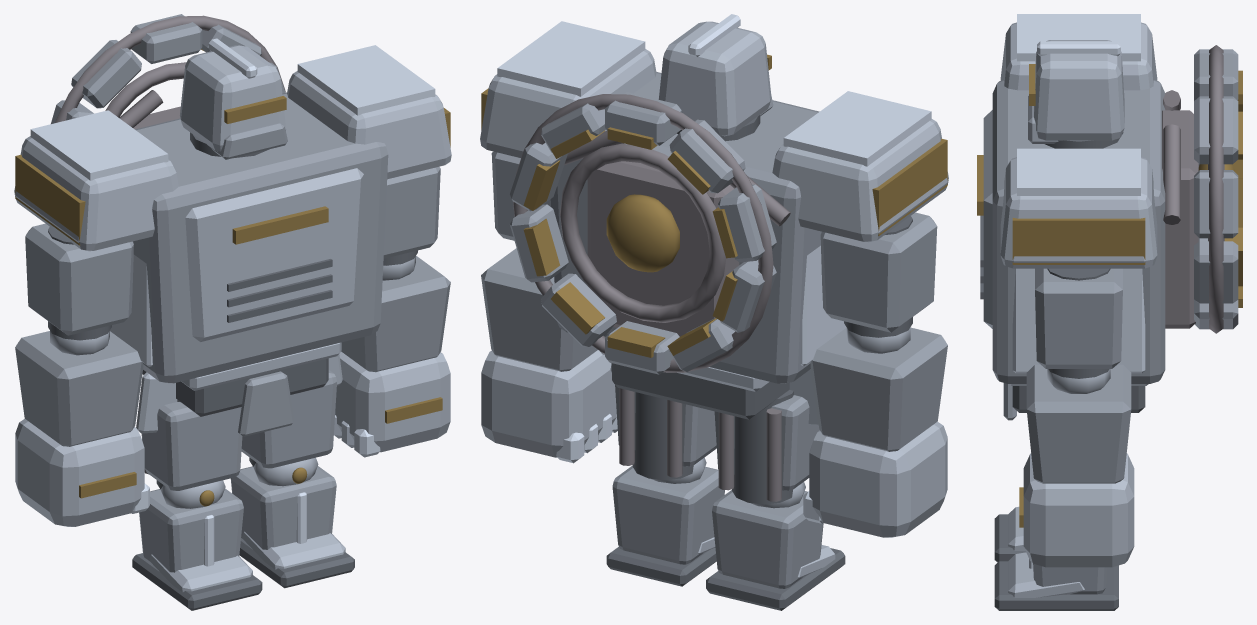
Rendered from anchor.glb.
3 views of the same model, side by side, from view 1: azimuth 30°, elevation 25°; view 2: azimuth 150°, elevation 25°; view 3: azimuth 270°, elevation 25° (orthographic). The views are drawn at different scales.
Parts seen in each view (by area): view 1: anchor*1.012, anchor*1.013, anchor*1.034, anchor*1.036, anchor*1.032, anchor*1.025, anchor*1.031, anchor*1.024, anchor*1.030, anchor*1.003, anchor*1.026, anchor*1.005 (+34 smaller); view 2: anchor*1.012, anchor*1.034, anchor*1.036, gunmetal*1.004, anchor*1.031, anchor*1.032, anchor*1.025, anchor*1.026, gunmetal*1.007, anchor*1.001, anchor*1.005, anchor*1.030 (+44 smaller); view 3: anchor*1.012, anchor*1.030, anchor*1.031, anchor*1.028, anchor*1.026, anchor*1.024, anchor*2.004, glow*0.015, gunmetal*1.004, anchor*2.002, gunmetal*1.006, anchor*2.005 (+21 smaller).
Boxes of the visible parts, <box> form: anchor*1.012: <box>133,92,388,383</box>; anchor*1.013: <box>185,168,363,341</box>; anchor*1.034: <box>15,331,143,446</box>; anchor*1.036: <box>15,419,144,526</box>; anchor*1.032: <box>25,223,133,335</box>; anchor*1.025: <box>14,136,178,251</box>; anchor*1.031: <box>335,351,450,452</box>; anchor*1.024: <box>287,71,451,179</box>; anchor*1.030: <box>341,256,450,372</box>; anchor*1.003: <box>141,402,242,490</box>; anchor*1.026: <box>180,45,285,151</box>; anchor*1.005: <box>139,488,243,572</box>; anchor*1.012: <box>550,72,821,383</box>; anchor*1.034: <box>810,327,947,451</box>; anchor*1.036: <box>809,421,947,537</box>; gunmetal*1.004: <box>587,161,739,336</box>; anchor*1.031: <box>481,350,616,457</box>; anchor*1.032: <box>820,212,937,332</box>; anchor*1.025: <box>772,119,948,242</box>; anchor*1.026: <box>658,21,771,136</box>; gunmetal*1.007: <box>560,143,726,322</box>; anchor*1.001: <box>612,465,724,564</box>; anchor*1.005: <box>712,490,823,588</box>; anchor*1.030: <box>481,248,597,371</box>; anchor*1.012: <box>992,80,1165,383</box>; anchor*1.030: <box>1026,364,1131,483</box>; anchor*1.031: <box>1023,453,1134,567</box>; anchor*1.028: <box>1035,268,1122,368</box>; anchor*1.026: <box>1033,40,1124,140</box>; anchor*1.024: <box>1000,157,1157,268</box>; anchor*2.004: <box>1017,148,1140,195</box>; glow*0.015: <box>1012,218,1145,264</box>; gunmetal*1.004: <box>1162,110,1198,328</box>; anchor*2.002: <box>1012,268,1145,373</box>; gunmetal*1.006: <box>1209,45,1223,333</box>; anchor*2.005: <box>1017,14,1140,61</box>.
Size of the model in its own units: 2.15 by 2.63 by 1.2.
